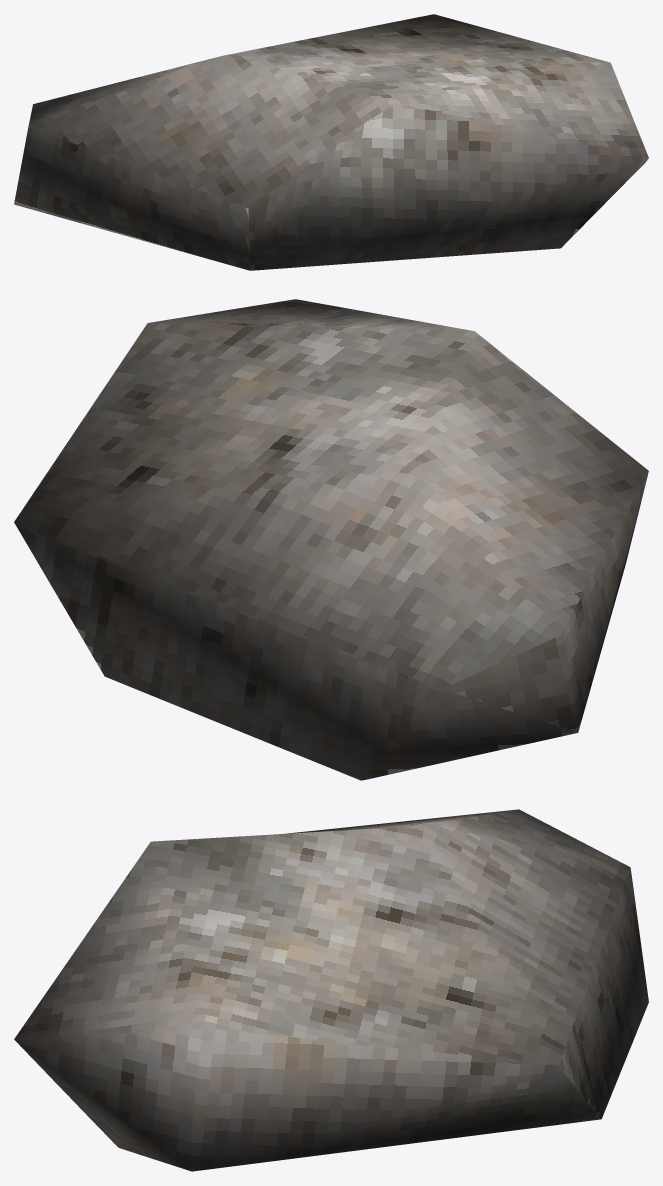
The model's file is rock_7.glb.
3 renders of one model, top to bottom at view 1: azimuth 30°, elevation 25°; view 2: azimuth 150°, elevation 25°; view 3: azimuth 270°, elevation 25°, orthographic. The views are drawn at different scales.
Visible parts, largest first — view 1: rock 7; view 2: rock 7; view 3: rock 7.
Boxes of the visible parts, x1,y1,x2,y2 form: rock 7: (14, 14, 648, 270); rock 7: (14, 299, 648, 780); rock 7: (14, 809, 648, 1171).
Bounding box in the file's own units: 1.82 × 0.6399 × 1.62.
Materials: 1 (1 with a texture image).
